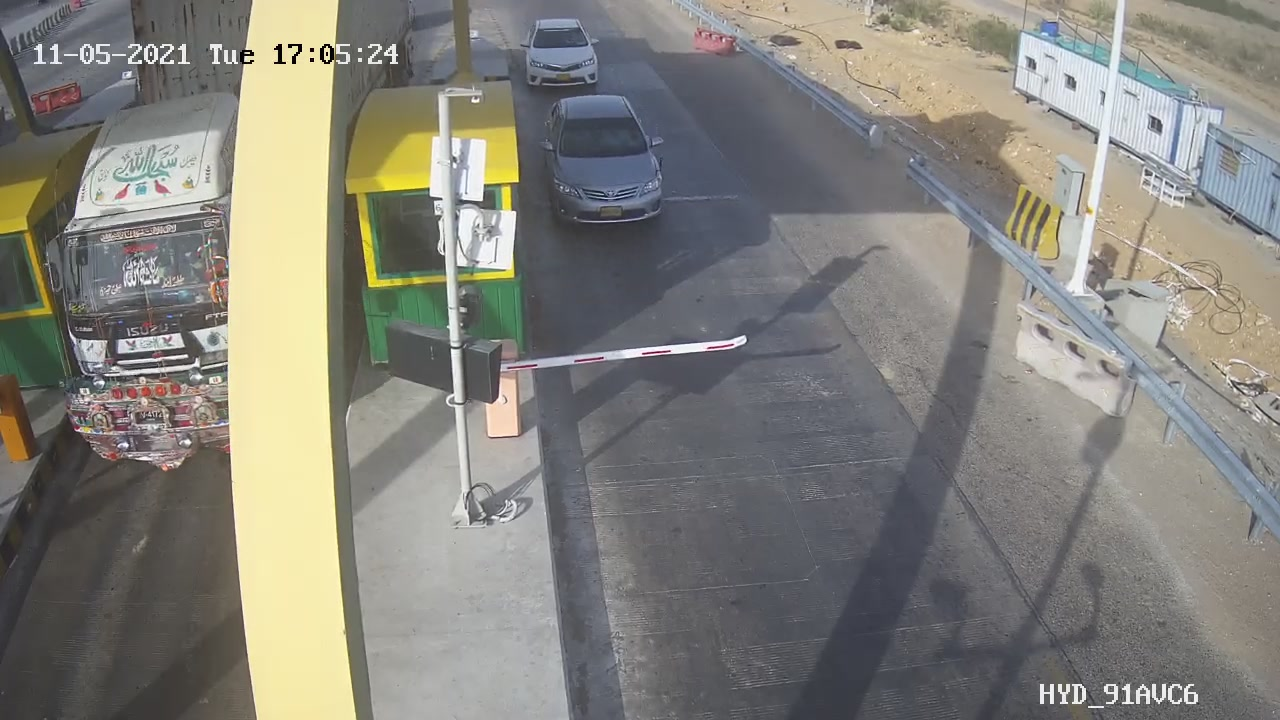F1: (526, 86, 683, 243), (509, 12, 613, 96)
